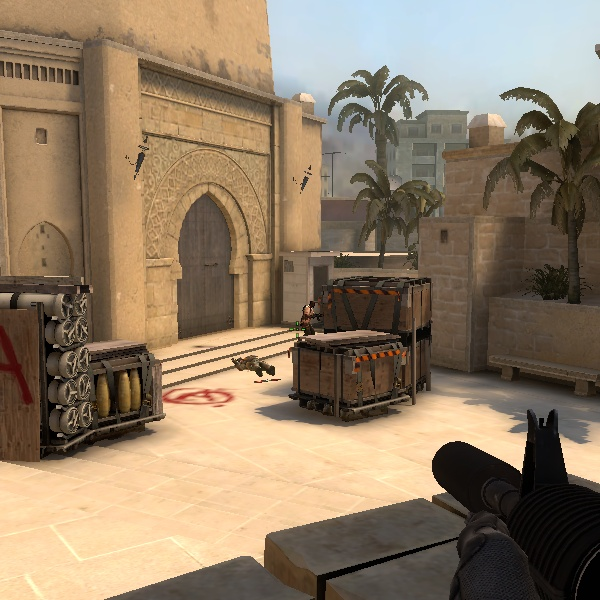t_body: (294, 295, 329, 336)
